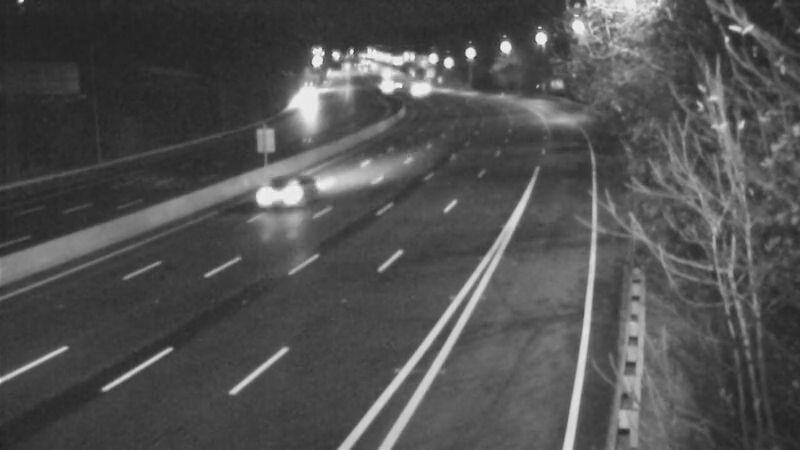vehicle: (242, 151, 322, 231)
